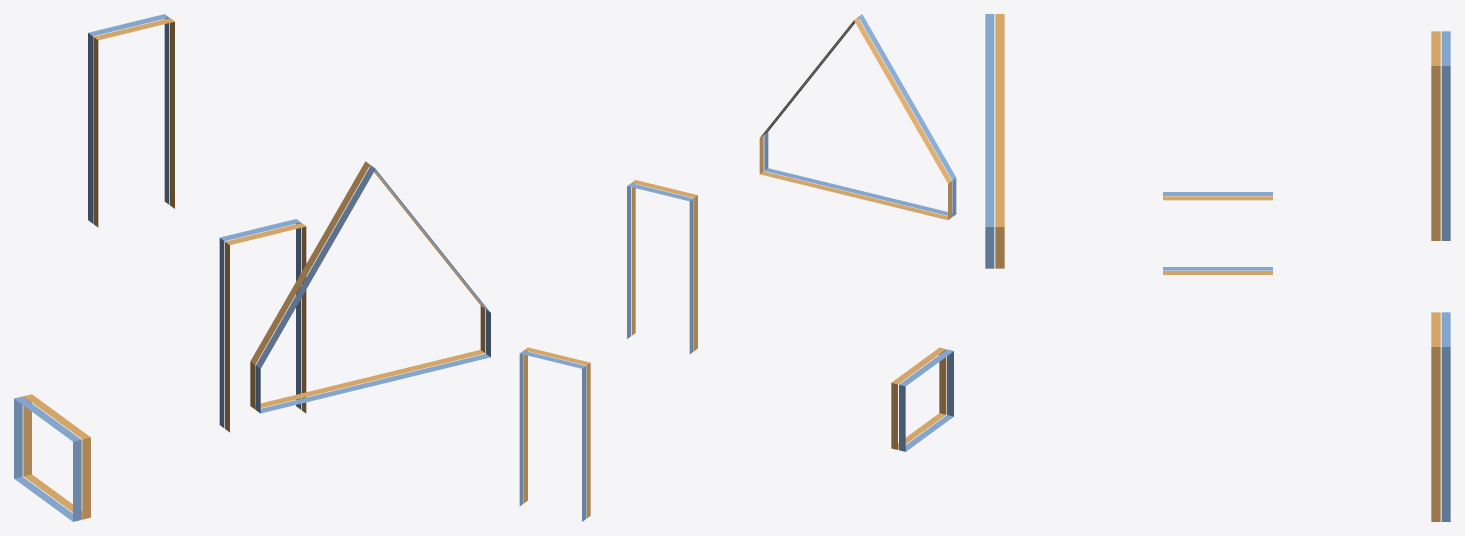
The model's file is stage-8.glb.
3 views of the same model, side by side, from view 1: azimuth 30°, elevation 25°; view 2: azimuth 150°, elevation 25°; view 3: azimuth 270°, elevation 25° (orthographic). The views are drawn at different scales.
Visible parts, largest first — view 1: Geom3D (×2); view 2: Geom3D (×2); view 3: Geom3D (×2).
Boxes of the visible parts, x1,y1,x2,y2 form: Geom3D (×2): [14, 14, 490, 521]; Geom3D (×2): [519, 14, 956, 521]; Geom3D (×2): [985, 14, 1450, 521].
Bounding box in the file's own units: 4.43 × 5.17 × 5.07.
